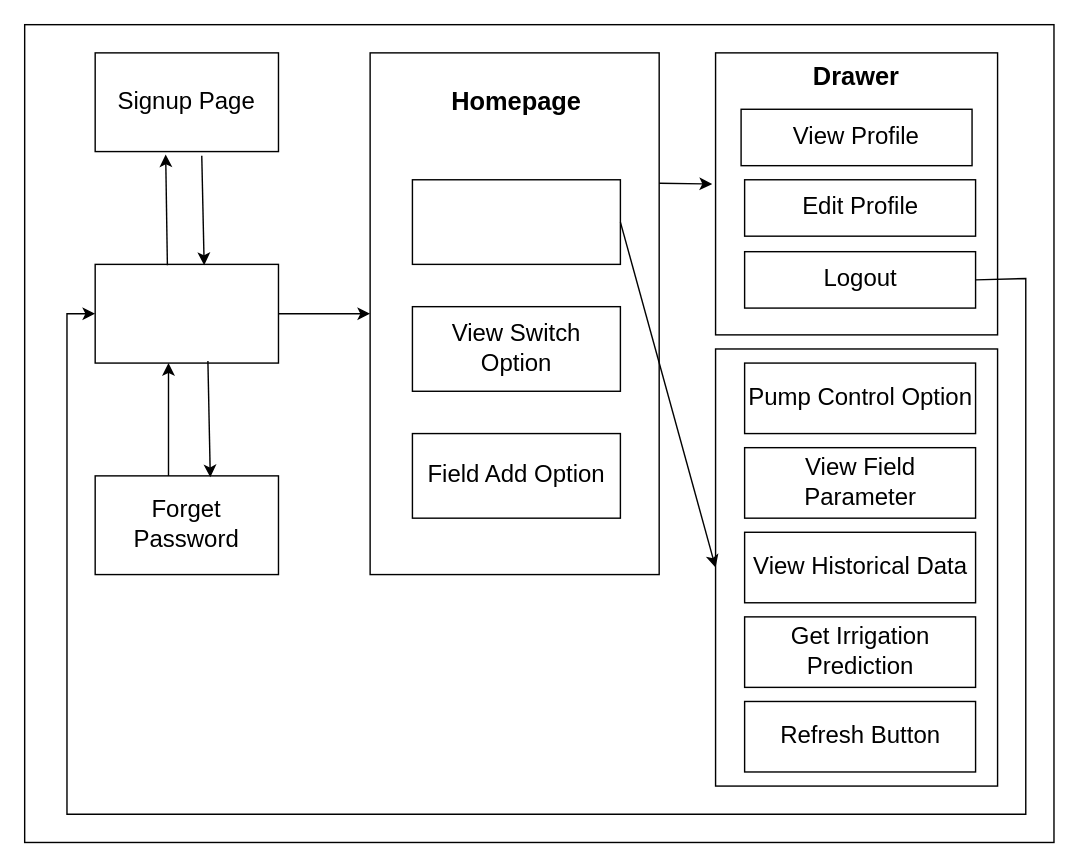
Some shapes in this 1079 by 867 pixel diagram are drawn without their labels. The shapes that lost their labels are listed below. From the top down, each one's centre as x and y in pixels, then its label:
point 515,221: Specific Field Button
point 186,313: Login Page
